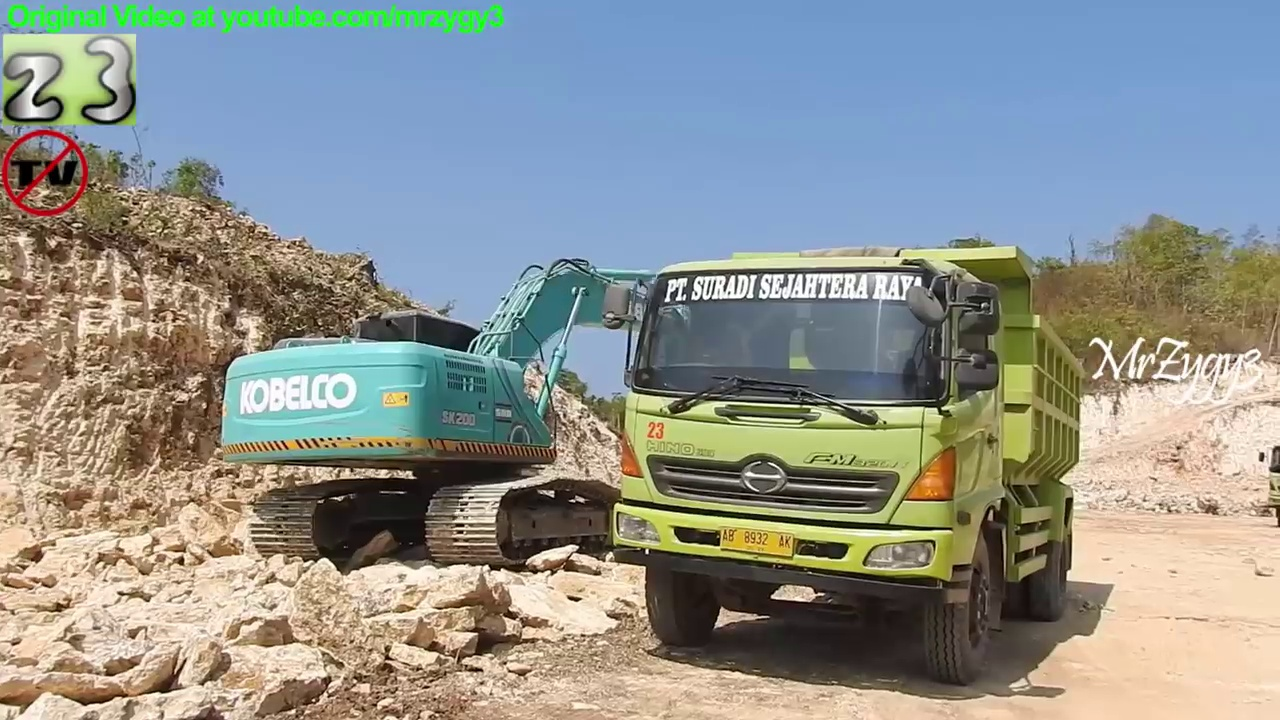excavator: (209, 250, 888, 581)
truck: (596, 237, 1093, 688), (1254, 436, 1280, 533)
